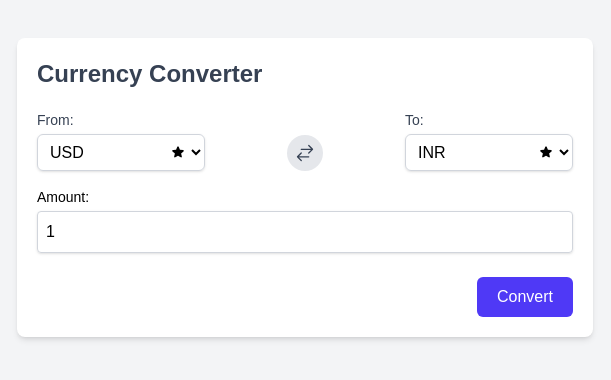
Currency Converter App › shows error for empty amount
Clear the number field at coordinates (305, 232), box [37,211,573,253]
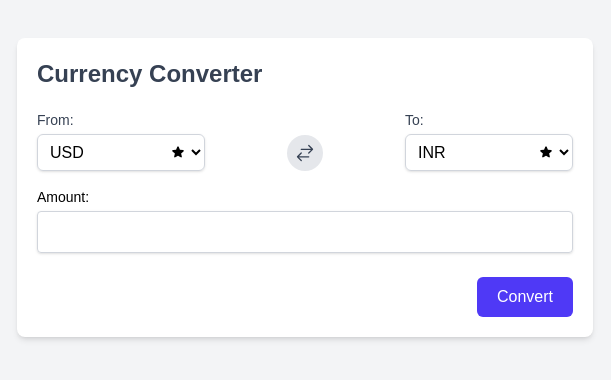
Click the button "Convert" at coordinates (525, 297), box [477,277,573,317]
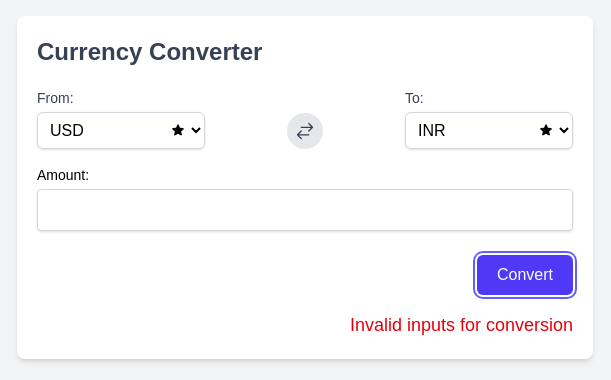
expect the text "Invalid inputs for conversion" is shown: met, box [350,314,573,334]
